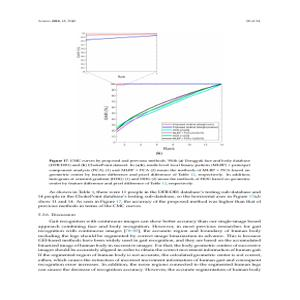diagram: (51, 29, 257, 153)
text: (35, 158, 264, 272)
